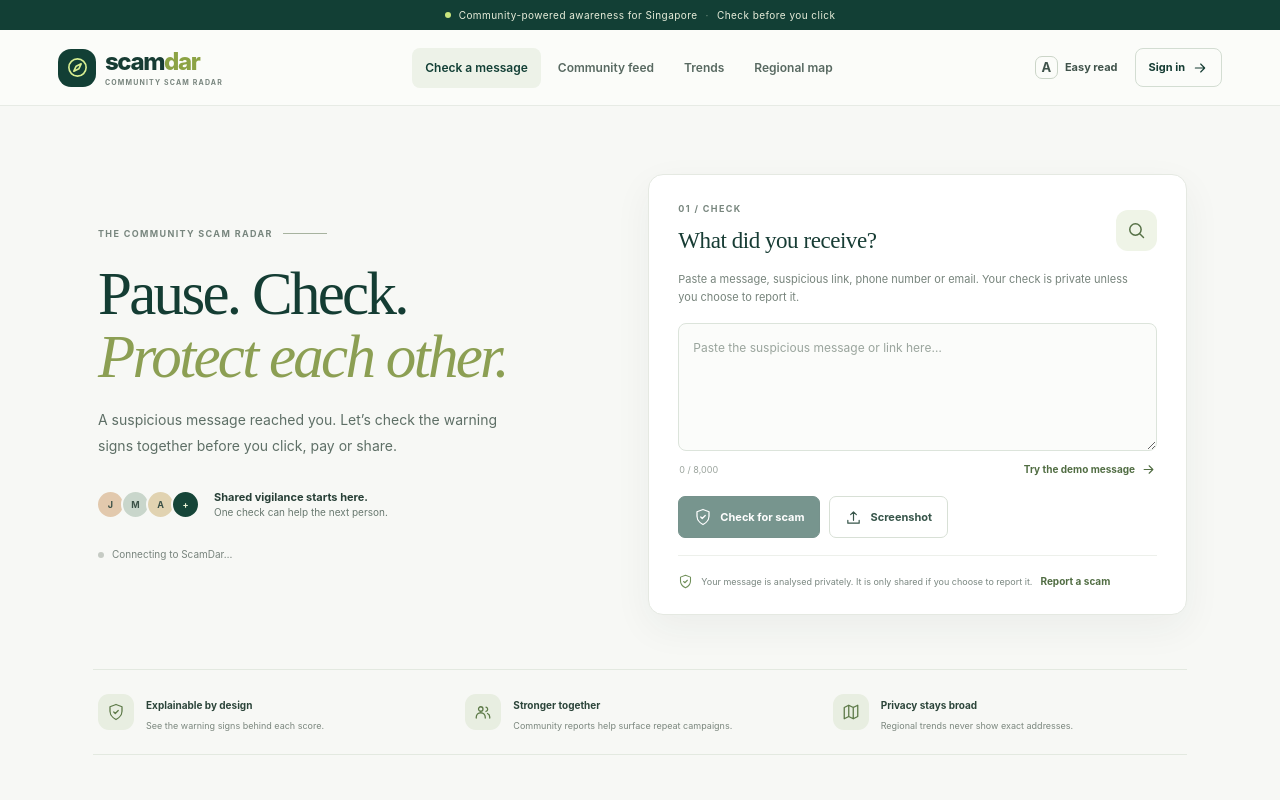
Test: ScamDar main flows › switches to the trends dashboard
Click the button "Trends" at point(704, 68), box left=671, top=48, right=737, bottom=88
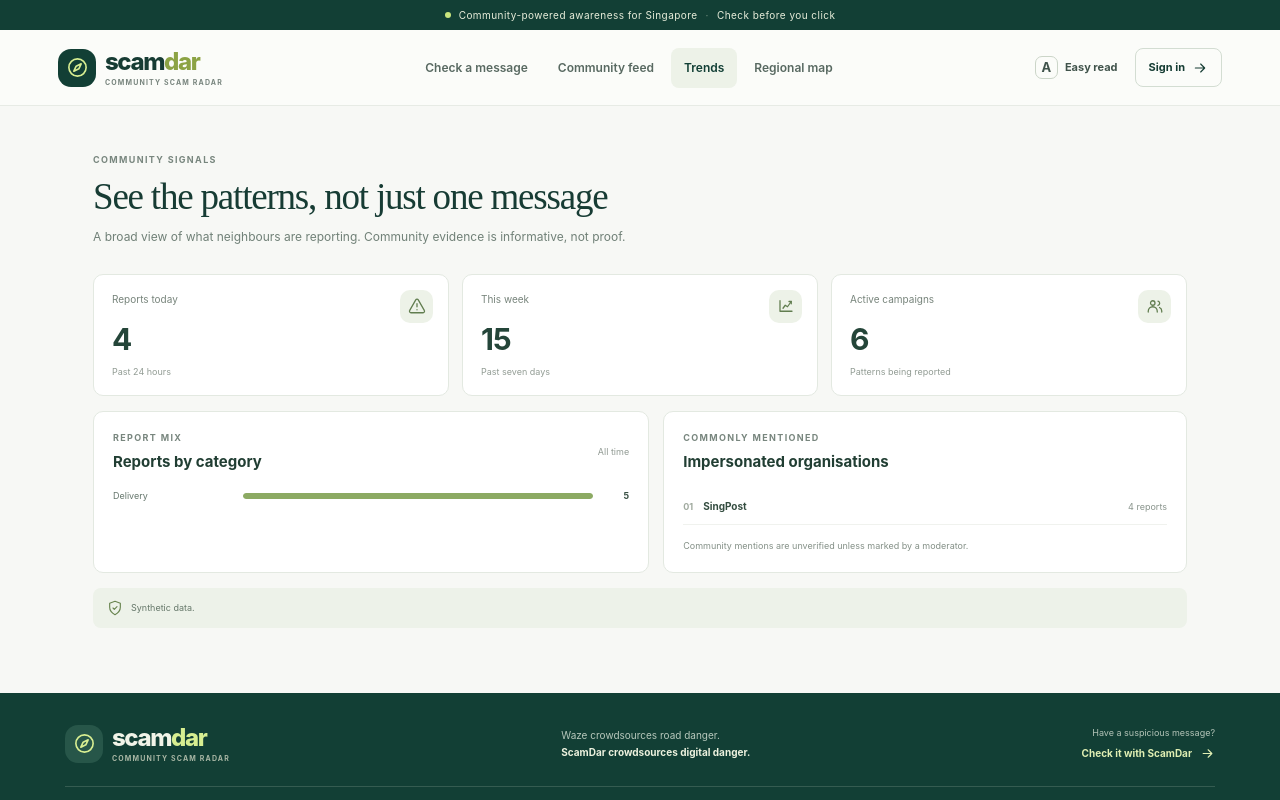
Check: the heading "See the patterns, not just one message" is shown, box left=93, top=176, right=625, bottom=217
Check: the text "Reports today" is shown, box left=112, top=293, right=178, bottom=305
